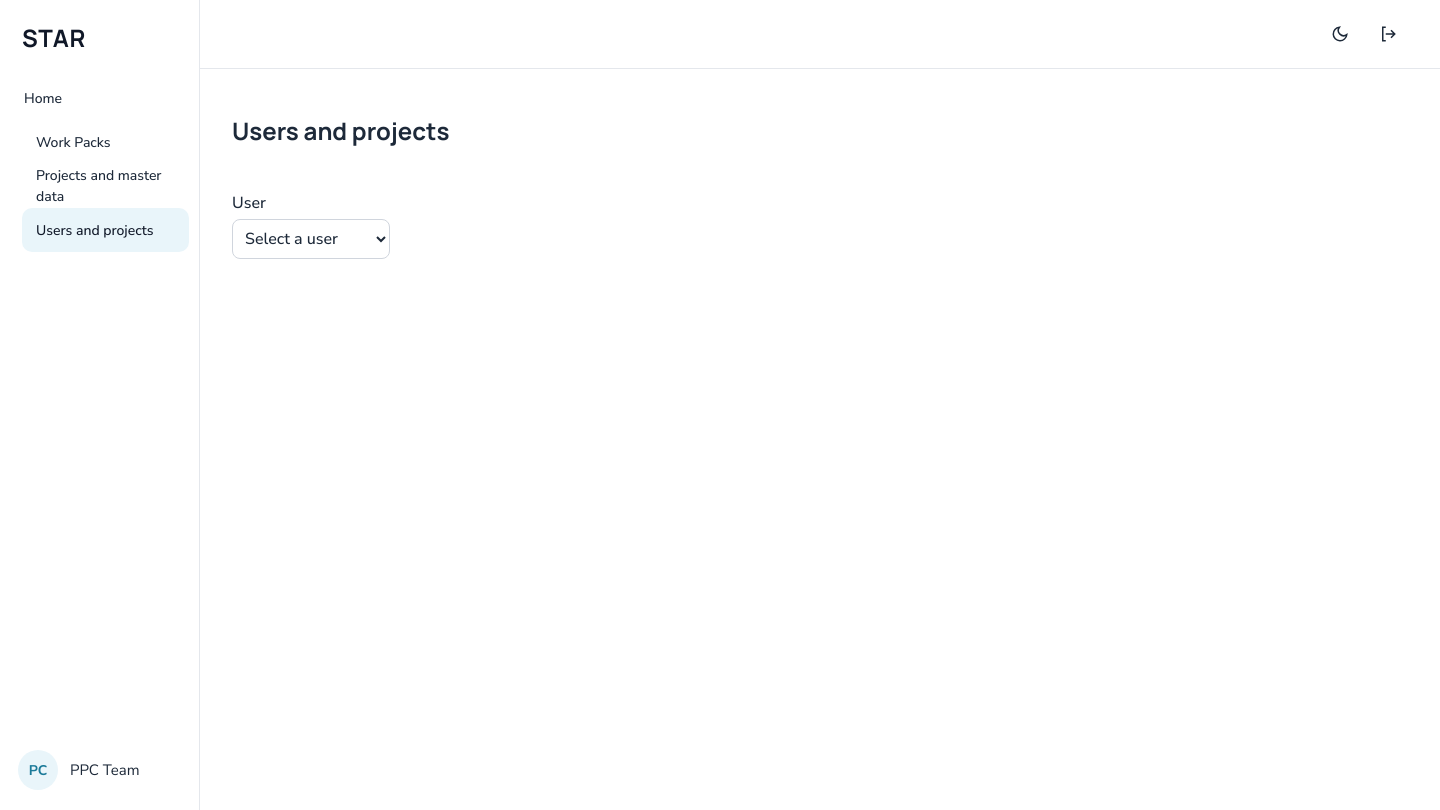
Test: UsersPage › BPA76_duplicateAssignmentIsRejected
Select "project-engineer" in the dropdown labelled "User": coordinates (311, 239) [232, 219, 390, 259]
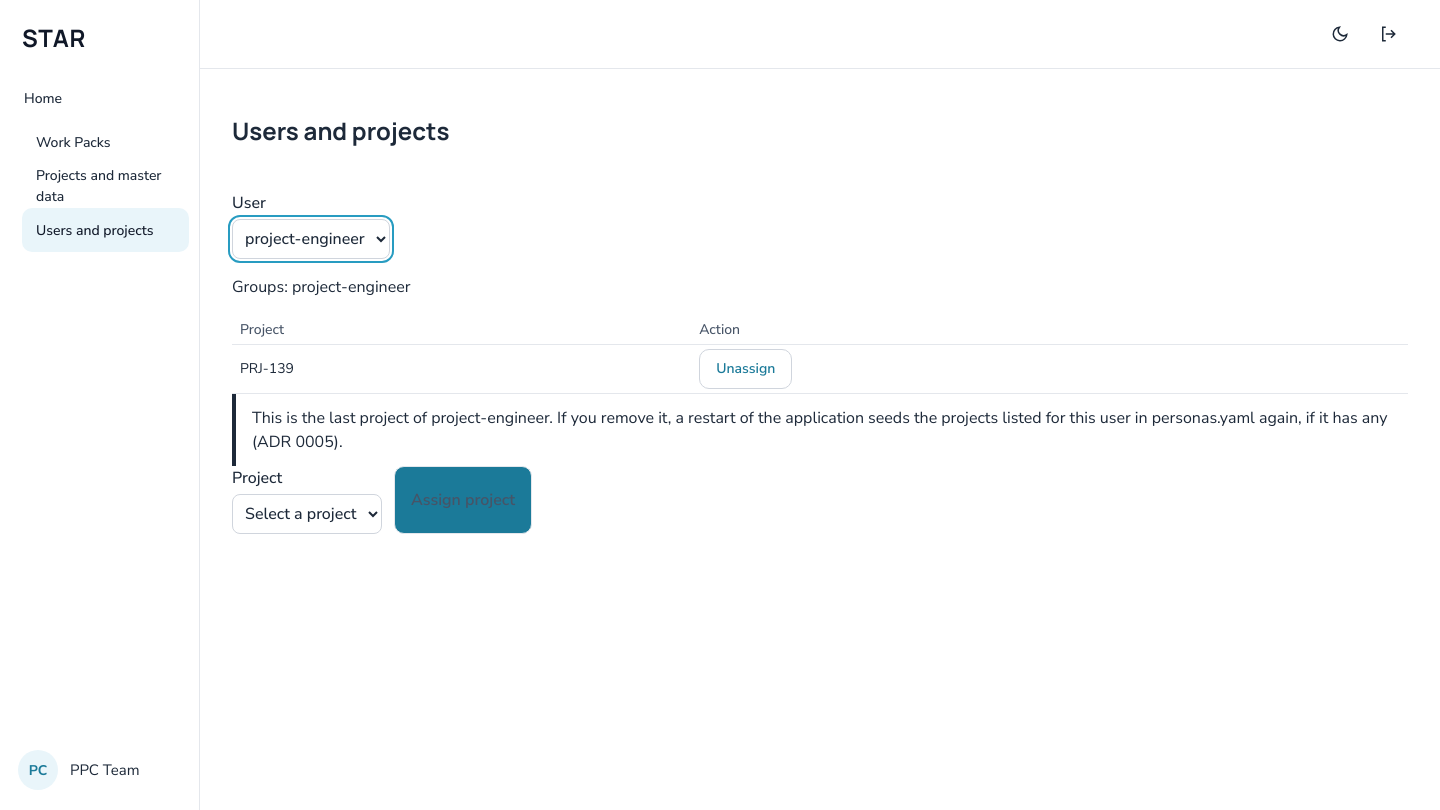
Select "PRJ-139" in the dropdown labelled "Project": coordinates (307, 514) [232, 494, 382, 534]
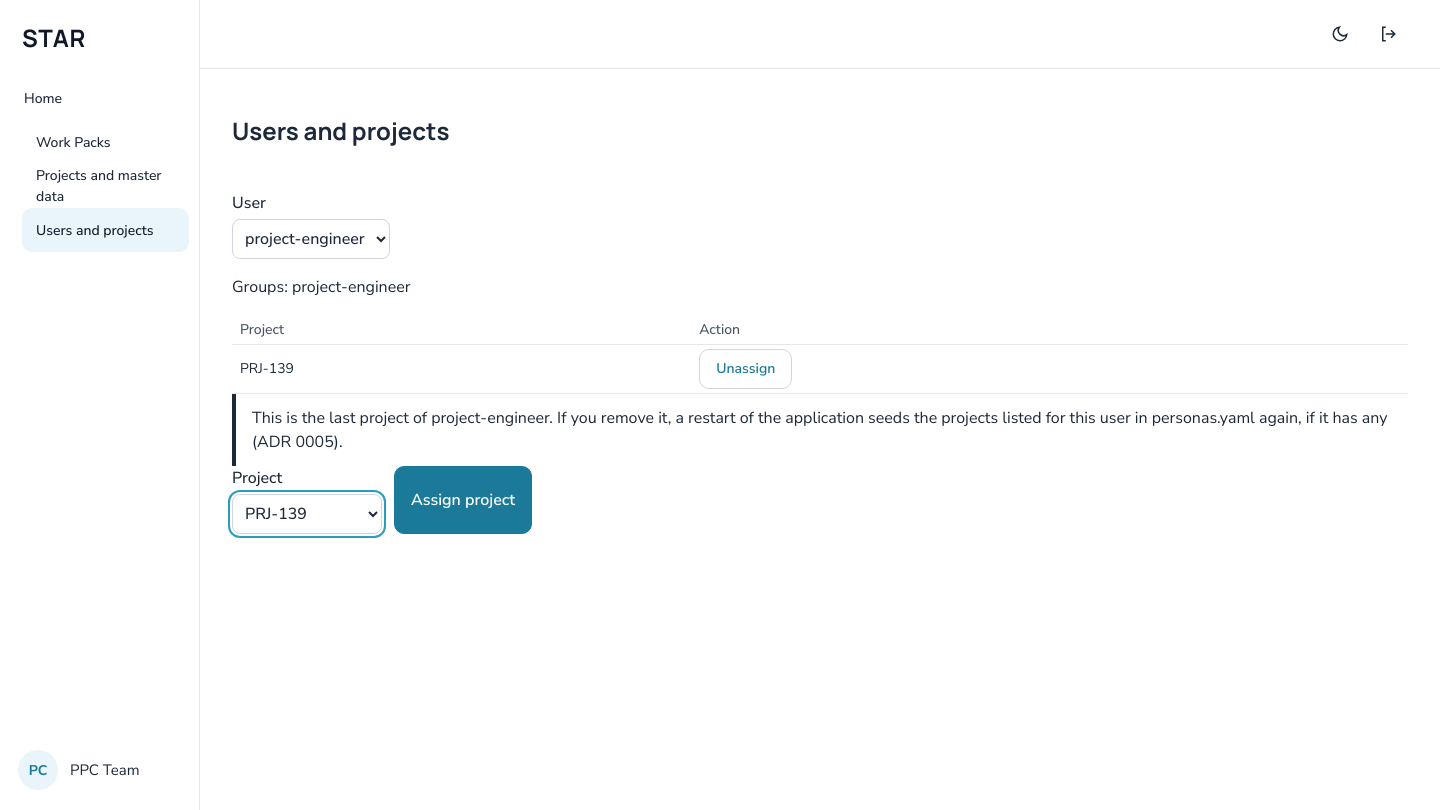
Click the button "Assign project": coordinates (463, 500) [394, 466, 532, 534]
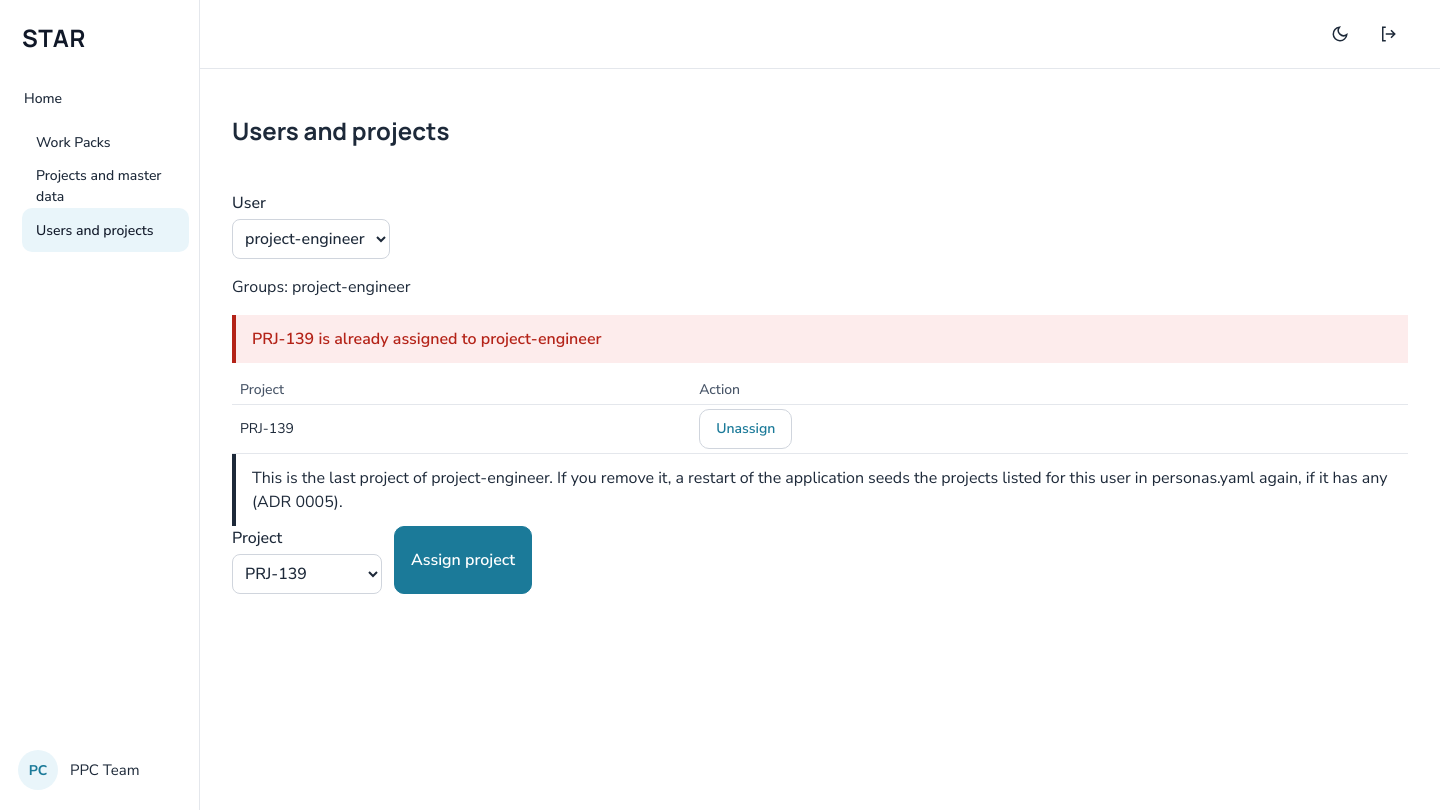
Result: the message reads "PRJ-139 is already assigned to project-engineer" at [252, 328, 602, 350]
